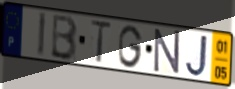B: (49, 13, 79, 62)
G: (118, 24, 145, 70)
I: (36, 11, 48, 59)
J: (184, 33, 210, 78)
N: (153, 28, 181, 76)
T: (89, 19, 113, 66)
